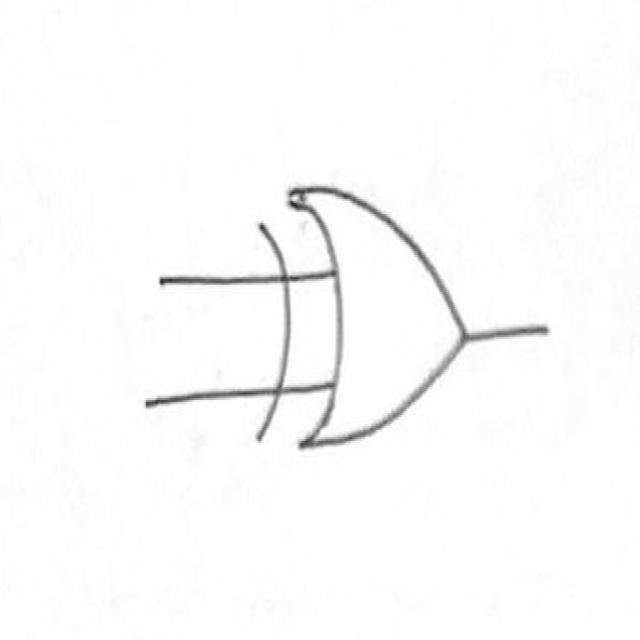XOR: (240, 144, 478, 489)
